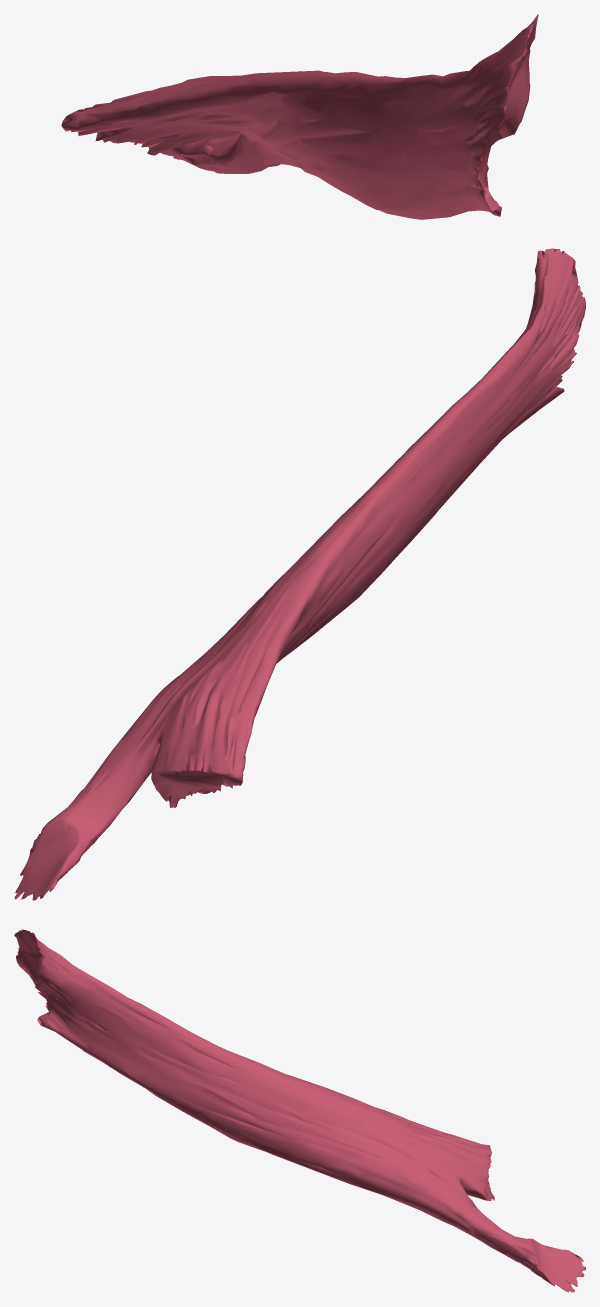
The picture shows the model from 3 angles, top to bottom: view 1: azimuth 30°, elevation 25°; view 2: azimuth 150°, elevation 25°; view 3: azimuth 270°, elevation 25°; orthographic projection. The views are drawn at different scales.
Parts seen in each view (by area): view 1: 右侧胸锁乳突肌; view 2: 右侧胸锁乳突肌; view 3: 右侧胸锁乳突肌.
Boxes of the visible parts, x1,y1,x2,y2 form: 右侧胸锁乳突肌: (61, 14, 538, 219); 右侧胸锁乳突肌: (14, 248, 585, 900); 右侧胸锁乳突肌: (14, 929, 585, 1292).
Bounding box in the file's own units: 0.0851 × 0.1675 × 0.2854.
